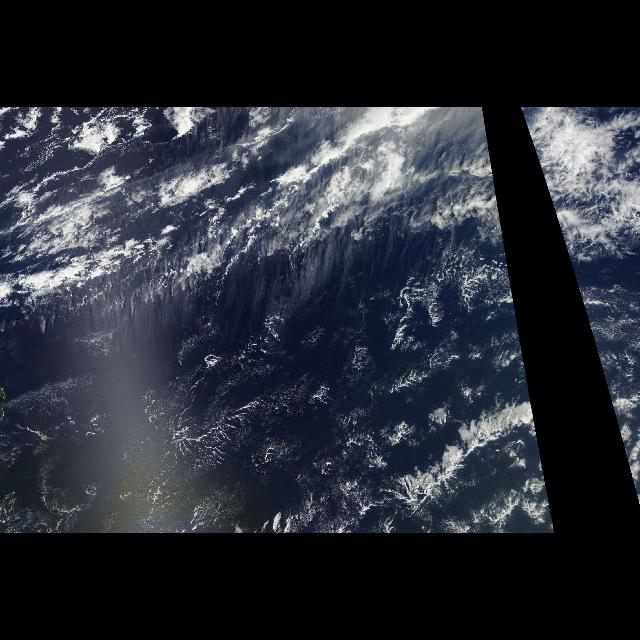Fish: (266, 413, 548, 533)
